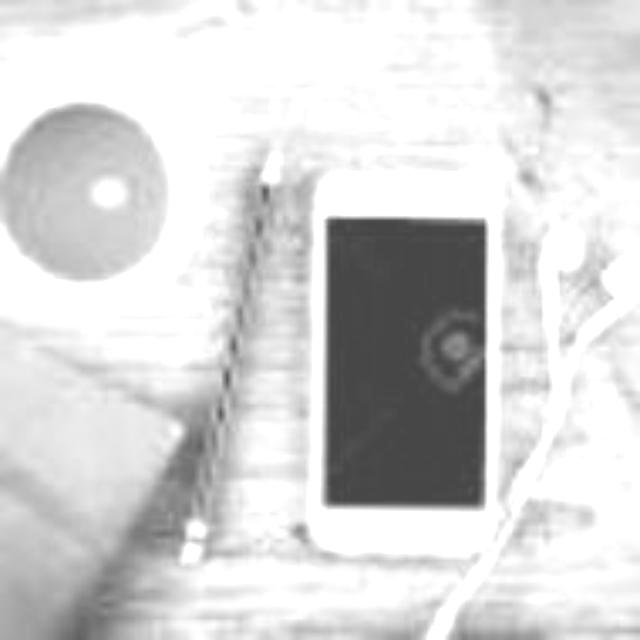fake: (288, 169, 500, 566)
